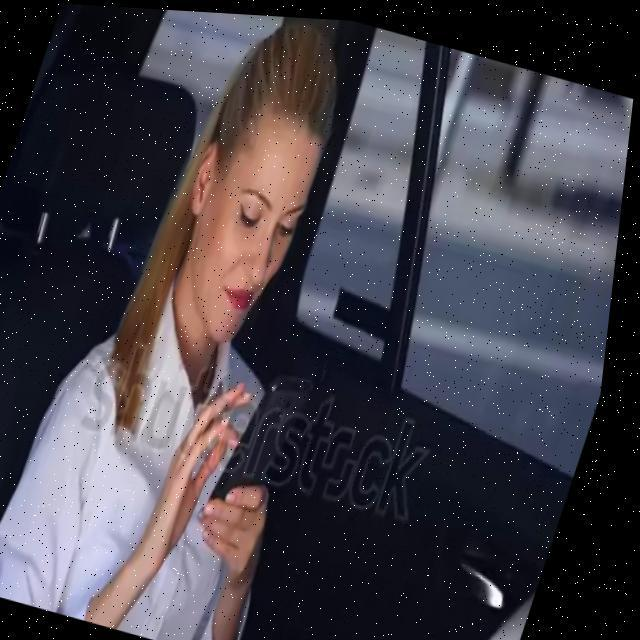PhoneCall: (218, 359, 322, 514)
